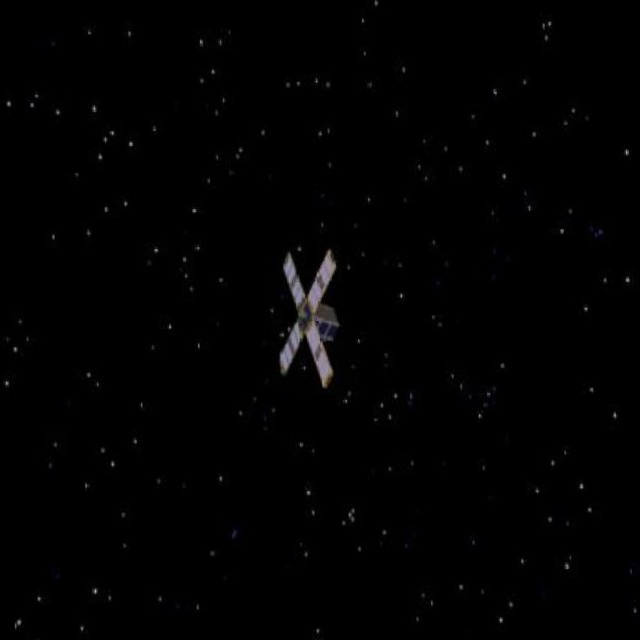medium_debris: (254, 244, 362, 392)
